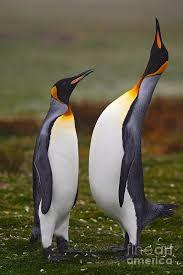king: (95, 6, 178, 259), (20, 55, 111, 261)
